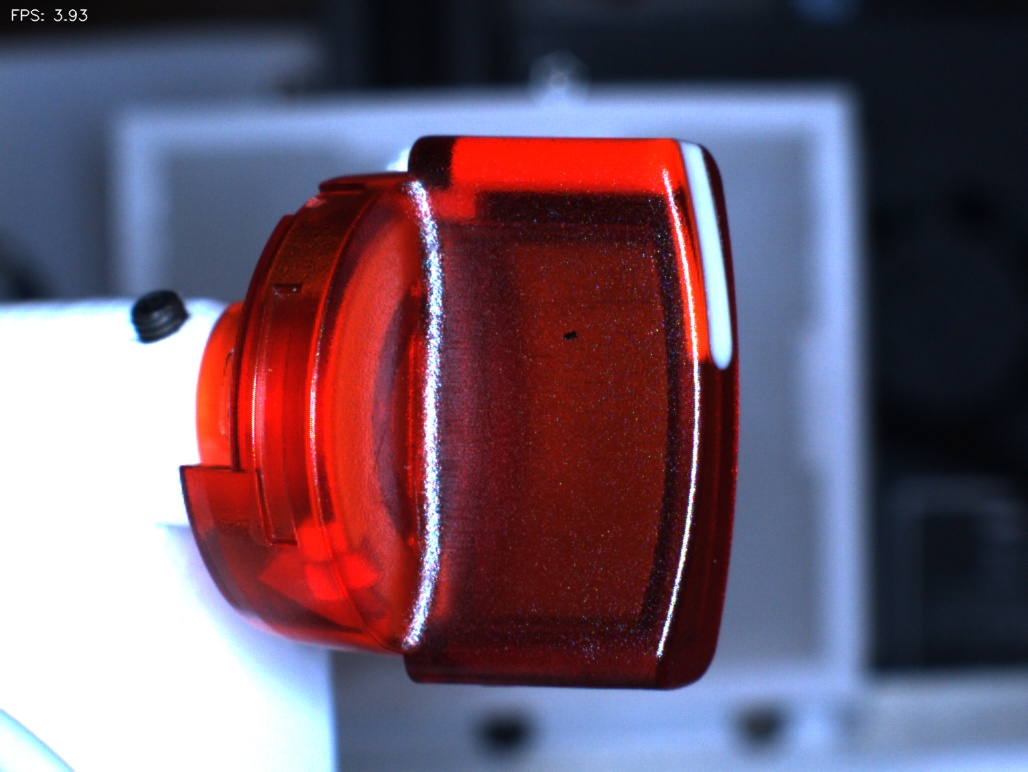PointNoir: (543, 295, 604, 375)
